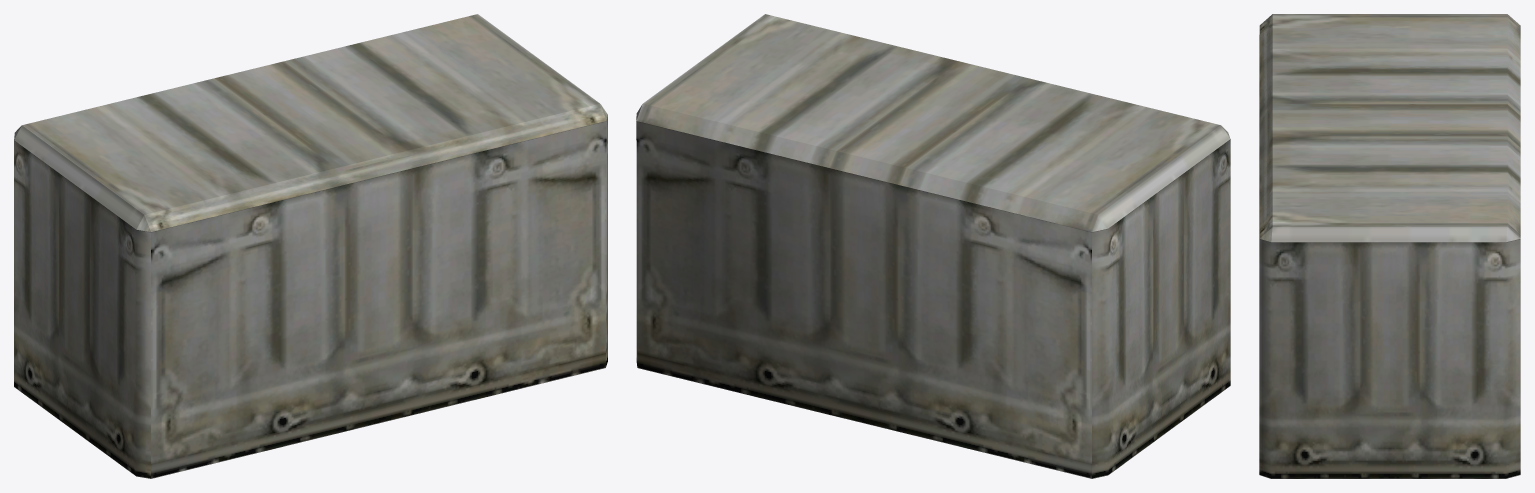
File: eqp_camping_crate_s1_l0.fbx
The picture shows the model from 3 angles, left to right: view 1: azimuth 30°, elevation 25°; view 2: azimuth 150°, elevation 25°; view 3: azimuth 270°, elevation 25°; orthographic projection. The views are drawn at different scales.
Parts seen in each view (by area): view 1: mesh_node; view 2: mesh_node; view 3: mesh_node.
Part boxes in pixels (bbox=[...]): mesh_node: bbox=[14, 14, 607, 478]; mesh_node: bbox=[636, 14, 1230, 478]; mesh_node: bbox=[1259, 14, 1520, 478].
Size of the model in its own units: 0.7811 by 0.4099 by 0.3908.
